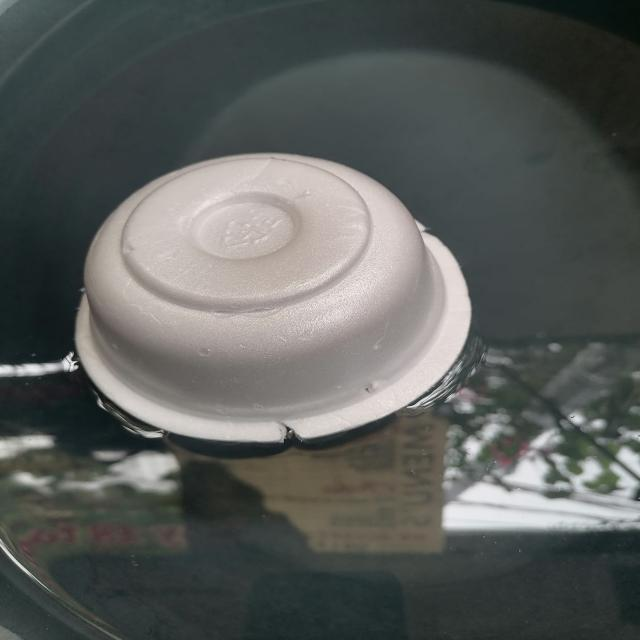Styrofoam Container: (75, 153, 471, 444)
